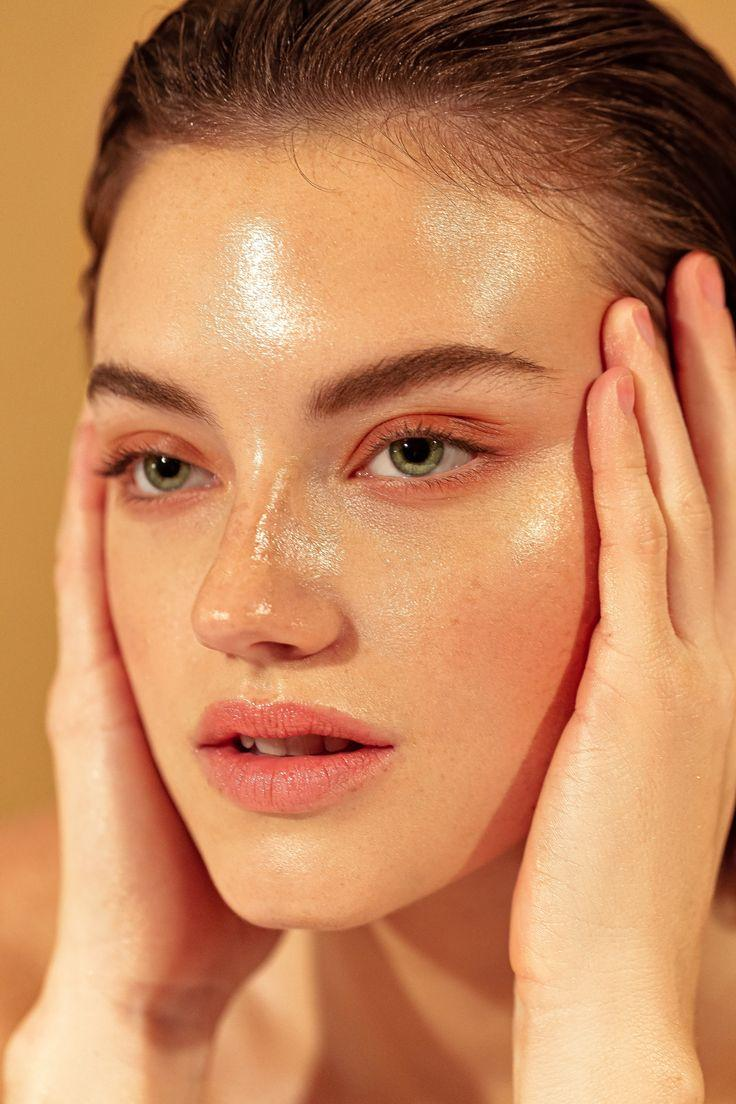Oily-Skin: (404, 138, 577, 348), (178, 194, 357, 384), (211, 461, 366, 657), (491, 488, 604, 655), (224, 821, 399, 906)
